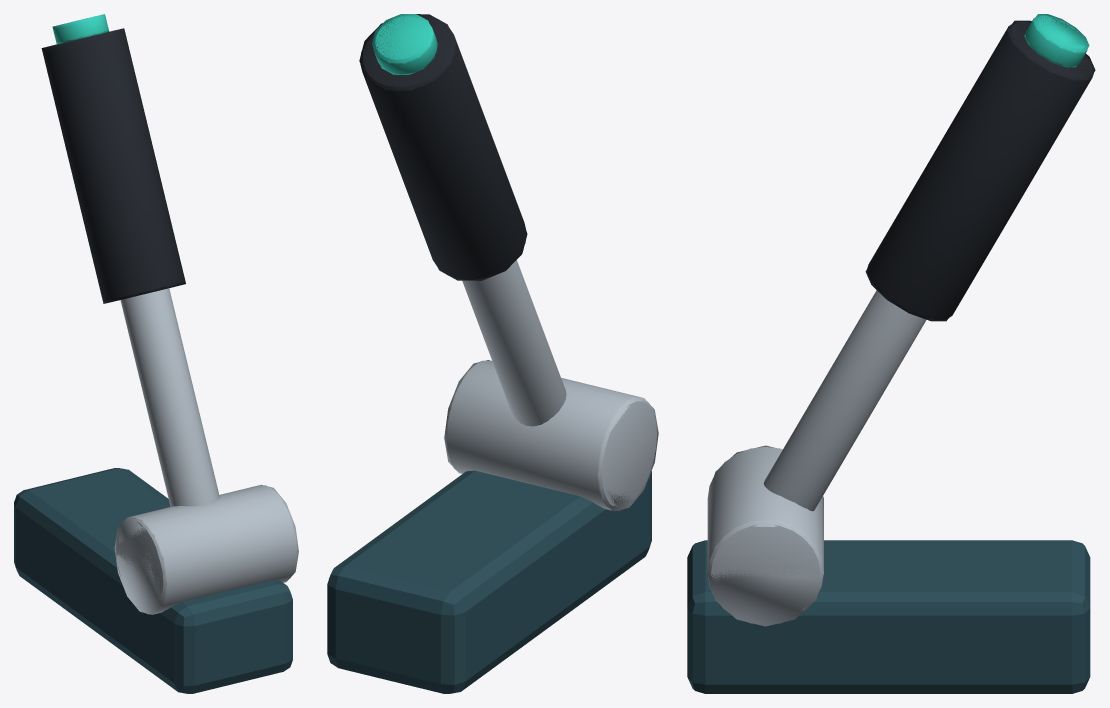
The model's file is handbrake-lever.glb.
3 renders of one model, left to right at view 1: azimuth 30°, elevation 25°; view 2: azimuth 150°, elevation 25°; view 3: azimuth 270°, elevation 25°, orthographic. The views are drawn at different scales.
Visible parts, largest first — view 1: mount, handle, hinge, lever, hinge.001, end_button; view 2: mount, handle, hinge, lever, end_button, end_button.001, handle.001, hinge.001; view 3: mount, handle, lever, hinge, hinge.001, end_button, handle.001, end_button.001.
Boxes of the visible parts, <box> form: mount: <box>14,468,292,693</box>; handle: <box>42,29,185,302</box>; hinge: <box>116,485,297,614</box>; lever: <box>120,288,219,506</box>; hinge.001: <box>114,484,298,614</box>; end_button: <box>53,15,108,43</box>; mount: <box>327,470,651,693</box>; handle: <box>360,16,526,280</box>; hinge: <box>446,360,656,510</box>; lever: <box>462,260,566,426</box>; end_button: <box>373,16,437,74</box>; end_button.001: <box>372,14,437,74</box>; handle.001: <box>359,14,527,280</box>; hinge.001: <box>444,360,658,511</box>; mount: <box>687,540,1090,693</box>; handle: <box>867,21,1093,320</box>; lever: <box>763,290,926,511</box>; hinge: <box>707,447,823,623</box>; hinge.001: <box>707,445,823,626</box>; end_button: <box>1025,15,1087,67</box>; handle.001: <box>865,20,1095,321</box>; end_button.001: <box>1024,14,1089,67</box>.
Size of the model in its own units: 0.08 by 0.32 by 0.1824.
